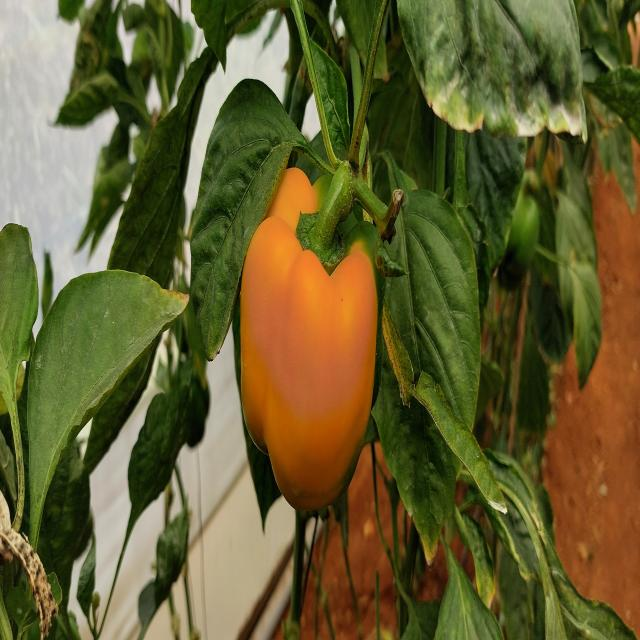Yellow-Ready-to-Harvest: (238, 160, 379, 513)
